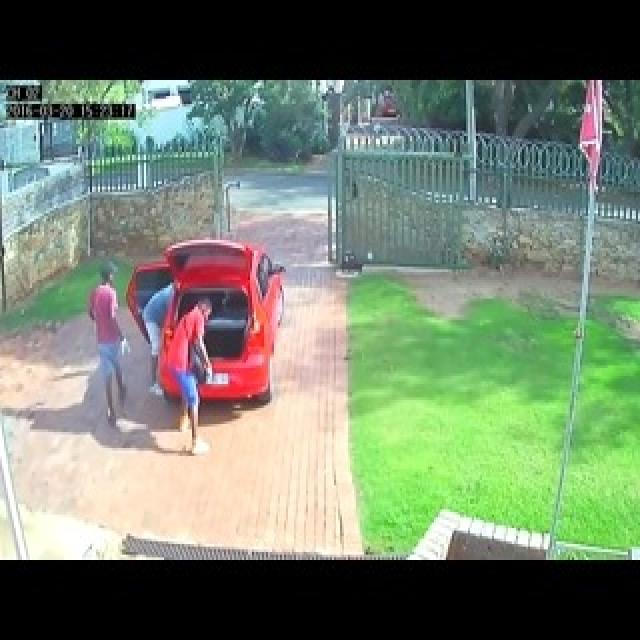thief: (78, 262, 124, 326), (182, 290, 222, 354), (150, 277, 176, 355)
